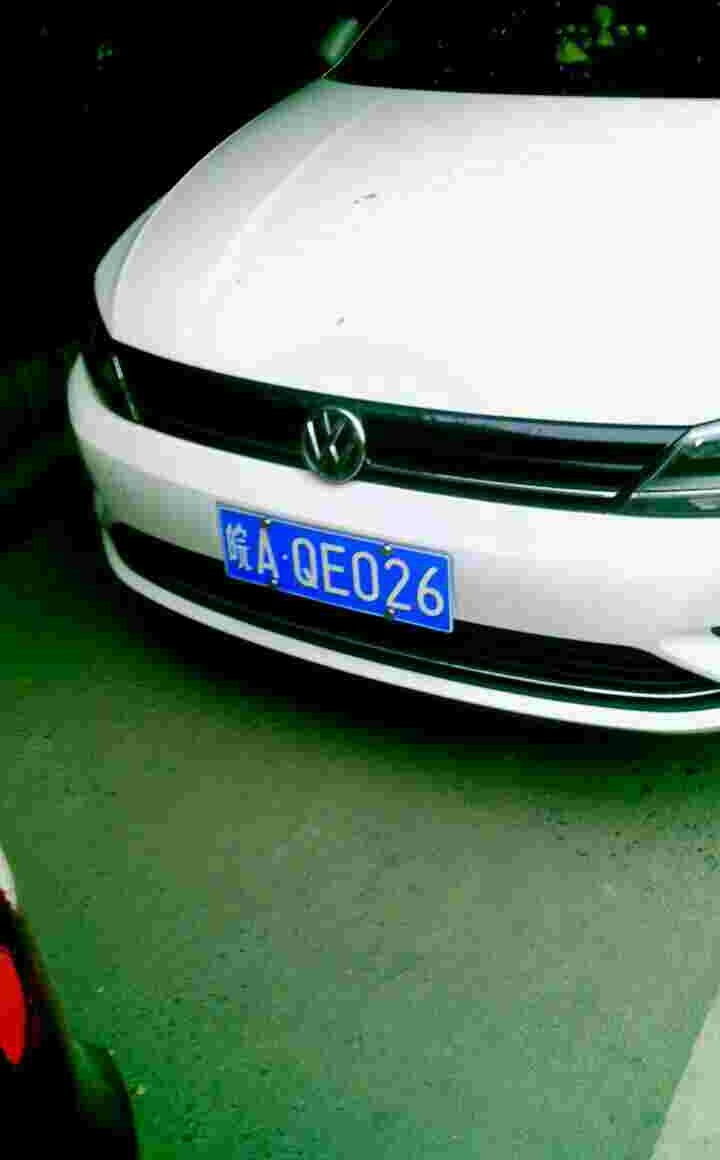car: (211, 507, 460, 636)
